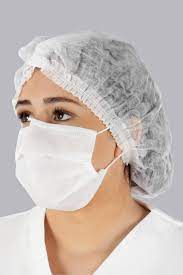with_mask_and_cap: (16, 34, 142, 214)
